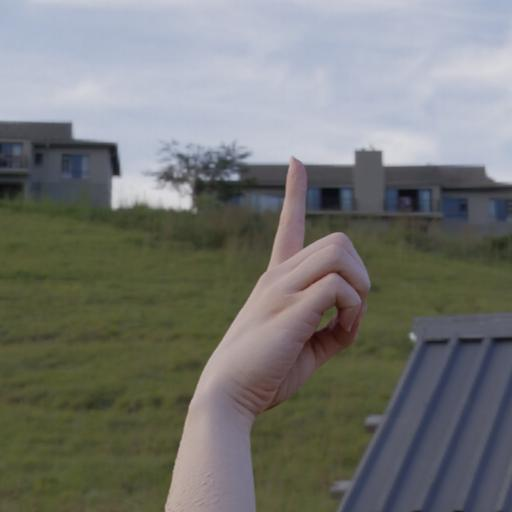D: (176, 142, 396, 439)
